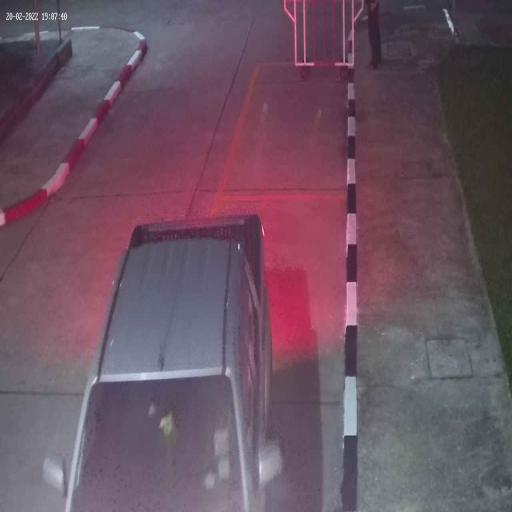car: (64, 213, 274, 512)
